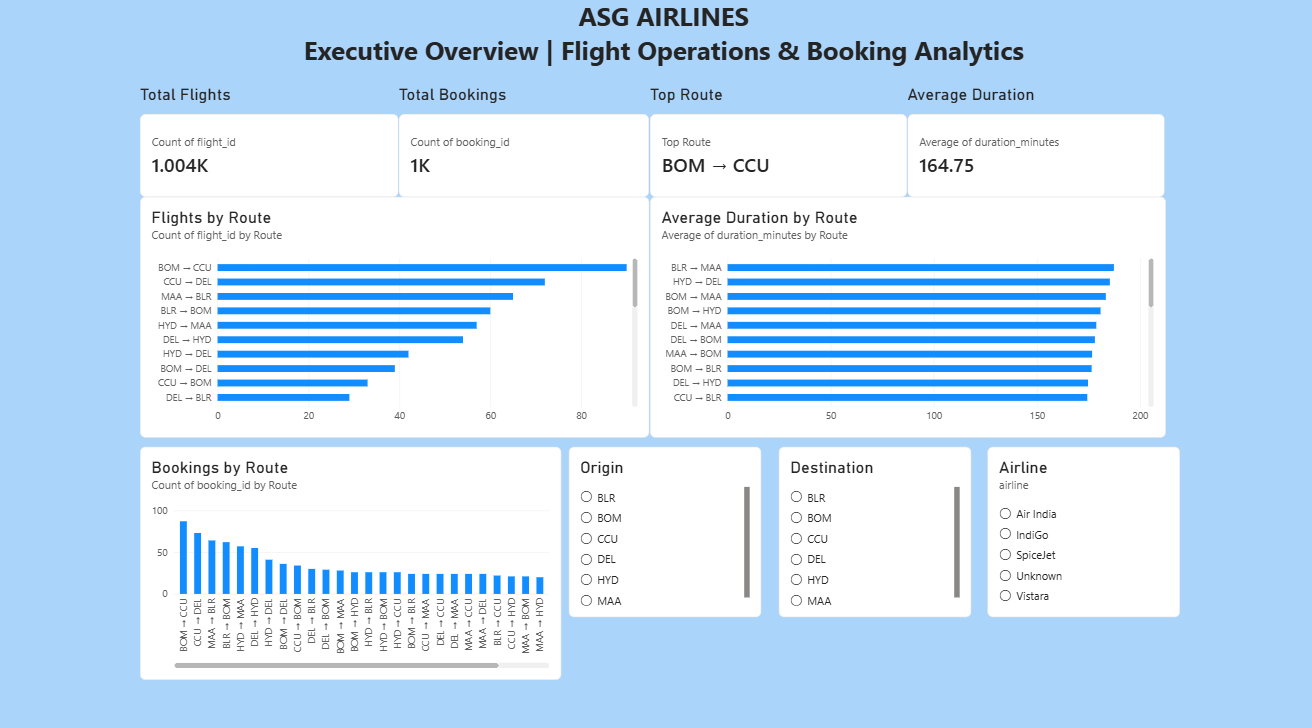

Layout of this report page (visuals, bound fields, positions):
{"tool":"powerbi","page":{"name":"Route Performance","canvas":[1920,1080],"ordinal":2},"visuals":[{"type":"cardVisual","title":"Total Flights","fields":{"Data":["Count(cleaned_flights.flight_id)"]},"box":[203.6,125,376.8,164.3],"z":0},{"type":"clusteredBarChart","title":"Flights by Route","fields":{"Category":["cleaned_flights.Route"],"Y":["CountNonNull(cleaned_flights.flight_id)"]},"box":[203.6,289.3,741.1,350],"z":1000},{"type":"clusteredBarChart","title":"Average Duration by Route","fields":{"Category":["cleaned_flights.Route"],"Y":["Avg(cleaned_flights.duration_minutes)"]},"box":[944.6,289.3,750,350],"z":2000},{"type":"clusteredColumnChart","title":"Bookings by Route","fields":{"Category":["cleaned_flights.Route"],"Y":["CountNonNull(cleaned_bookings.booking_id)"]},"box":[203.6,653.6,612.5,339.3],"z":3000},{"type":"cardVisual","title":"Total Bookings","fields":{"Data":["Count(cleaned_bookings.booking_id)"]},"box":[580.4,125,364.3,164.3],"z":4000},{"type":"listSlicer","title":"Destination","fields":{"Values":["cleaned_flights.destination"]},"box":[1132.1,653.6,280.4,248.2],"z":5000},{"type":"listSlicer","title":"Airline","fields":{"Values":["cleaned_flights.airline"]},"box":[1435.7,653.6,280.4,248.2],"z":6000},{"type":"listSlicer","title":"Origin","fields":{"Values":["cleaned_flights.source"]},"box":[826.8,653.6,280.4,248.2],"z":7000},{"type":"textbox","box":[10.7,0,1908.9,125],"z":7001},{"type":"cardVisual","title":"Top Route","fields":{"Data":["cleaned_flights.Top Route"]},"box":[944.6,125,375,164.3],"z":7002},{"type":"cardVisual","title":"Average Duration","fields":{"Data":["Avg(cleaned_flights.duration_minutes)"]},"box":[1319.6,125,375,164.3],"z":7003}]}

Visuals, with their boxes in screenshot pixels (x1, y1, x2, y2), scaled from the page's 1920x1080 canvas onto the 1312x728 screenshot:
"Total Flights" cardVisual: (139, 84, 397, 195)
"Flights by Route" clusteredBarChart: (139, 195, 646, 431)
"Average Duration by Route" clusteredBarChart: (645, 195, 1158, 431)
"Bookings by Route" clusteredColumnChart: (139, 441, 558, 669)
"Total Bookings" cardVisual: (397, 84, 646, 195)
"Destination" listSlicer: (774, 441, 965, 608)
"Airline" listSlicer: (981, 441, 1173, 608)
"Origin" listSlicer: (565, 441, 757, 608)
textbox: (7, 0, 1311, 84)
"Top Route" cardVisual: (645, 84, 902, 195)
"Average Duration" cardVisual: (902, 84, 1158, 195)
